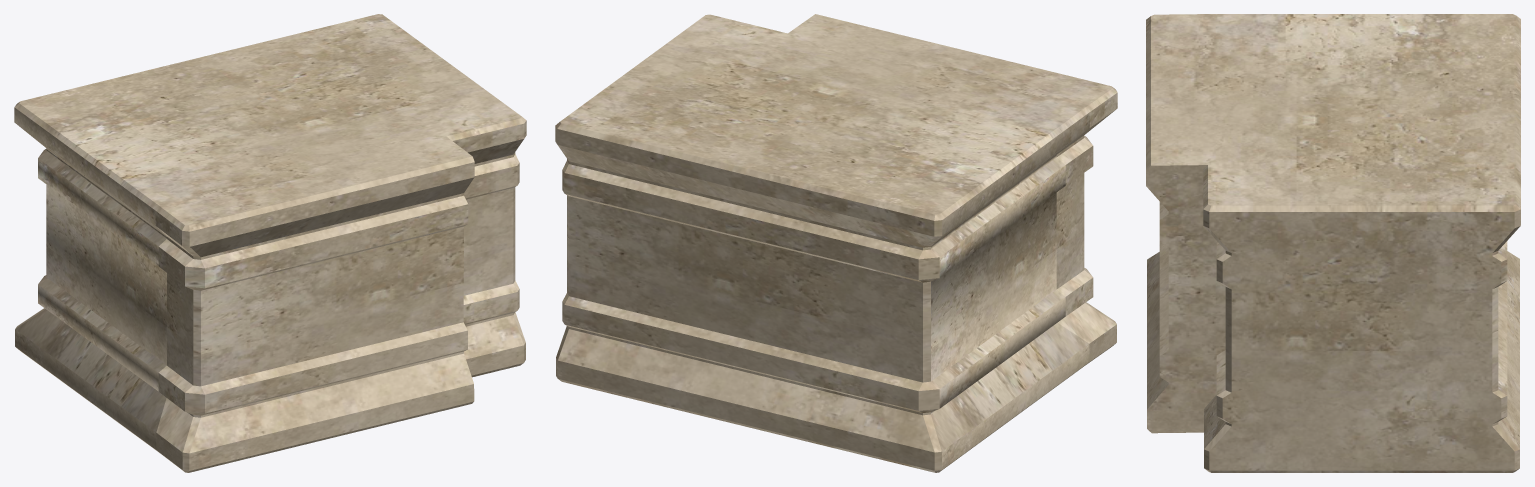
Rendered from column_top.FBX.
3 renders of one model, left to right at view 1: azimuth 30°, elevation 25°; view 2: azimuth 150°, elevation 25°; view 3: azimuth 270°, elevation 25°, orthographic. The views are drawn at different scales.
Visible parts, largest first — view 1: column_L048; view 2: column_L048; view 3: column_L048.
Part boxes in pixels (x1,y1,x2,y2): column_L048: (14, 14, 526, 472); column_L048: (555, 14, 1117, 472); column_L048: (1146, 14, 1520, 472).
Size of the model in its own units: 81.01 by 51.83 by 65.59.
